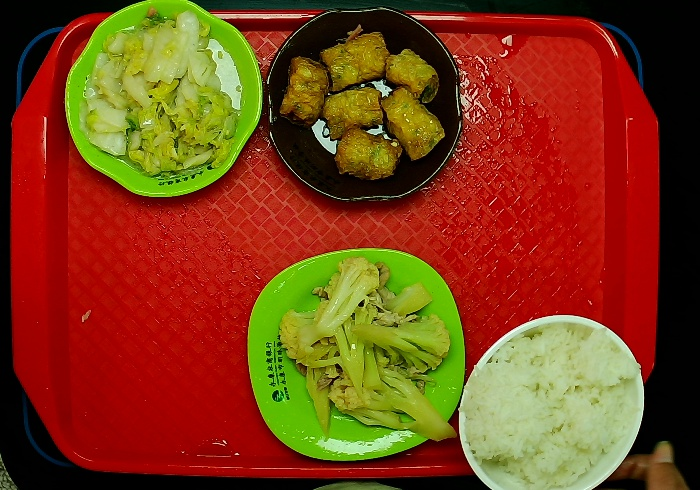YKMZ-Fan_Wan: (453, 306, 645, 490)
YKMZ-Ka_Fei_Ao_Bian_Wan: (255, 4, 467, 211)
YKMZ-Lv_Se_Ao_Bian_Wan: (53, 1, 267, 210)
YKMZ-Lv_Se_Fang_Die: (241, 242, 469, 467)
